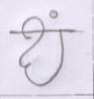anusvara: (50, 11, 57, 18)
